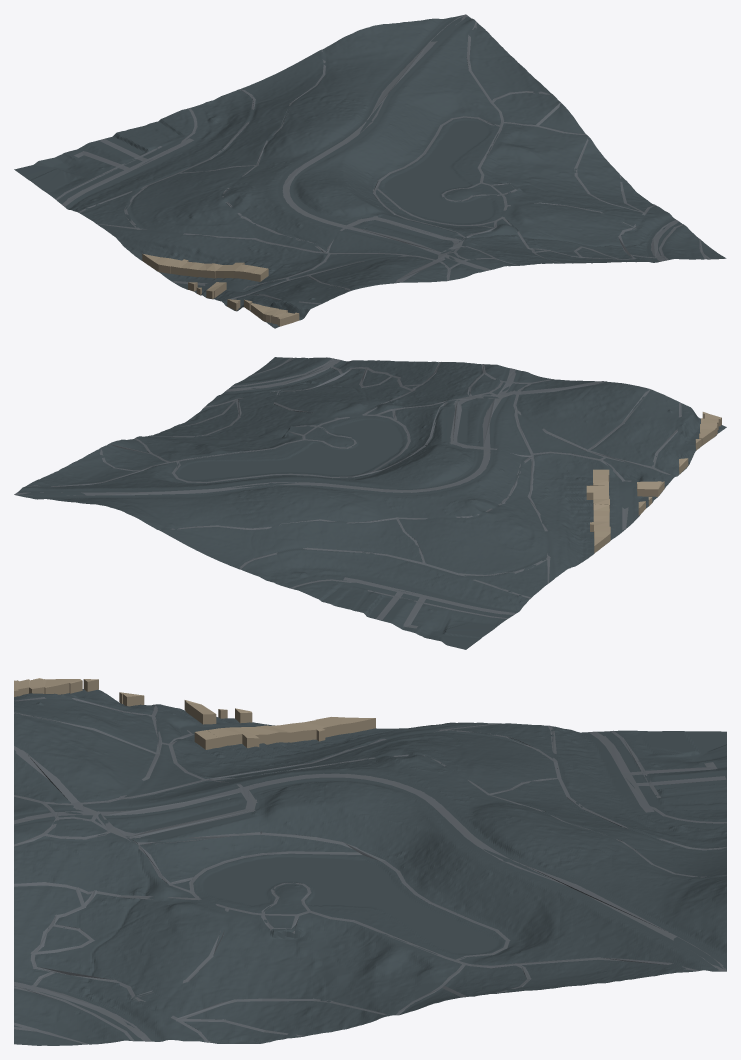
File: epsg26910-1434-10872.lod0.glb
3 renders of one model, top to bottom at view 1: azimuth 30°, elevation 25°; view 2: azimuth 150°, elevation 25°; view 3: azimuth 270°, elevation 25°, orthographic. The views are drawn at different scales.
Parts seen in each view (by area): view 1: epsg26910-1434-10872-lod0; view 2: epsg26910-1434-10872-lod0; view 3: epsg26910-1434-10872-lod0.
Part boxes in pixels (left/top/right/bottom): epsg26910-1434-10872-lod0: left=14, top=14, right=726, bottom=328; epsg26910-1434-10872-lod0: left=14, top=357, right=726, bottom=649; epsg26910-1434-10872-lod0: left=14, top=678, right=726, bottom=1045.
Size of the model in its own units: 384 by 53.22 by 384.
